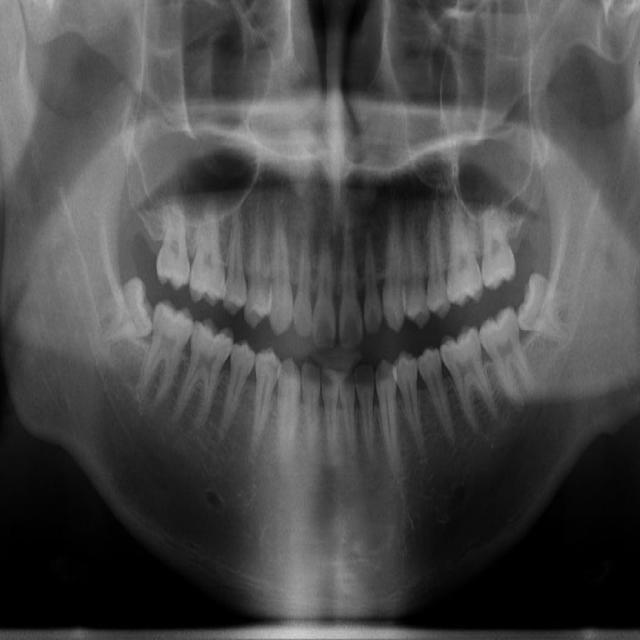73: (610, 598, 616, 608)
BioHorizons Implant: (149, 181, 191, 293), (480, 192, 516, 291)
Biomet 3i Implant: (510, 271, 585, 346)
Blue Sky Bio Implant: (472, 304, 541, 415)
Implant: (134, 297, 197, 414)
Keystone Dental Implant: (86, 274, 161, 350)
